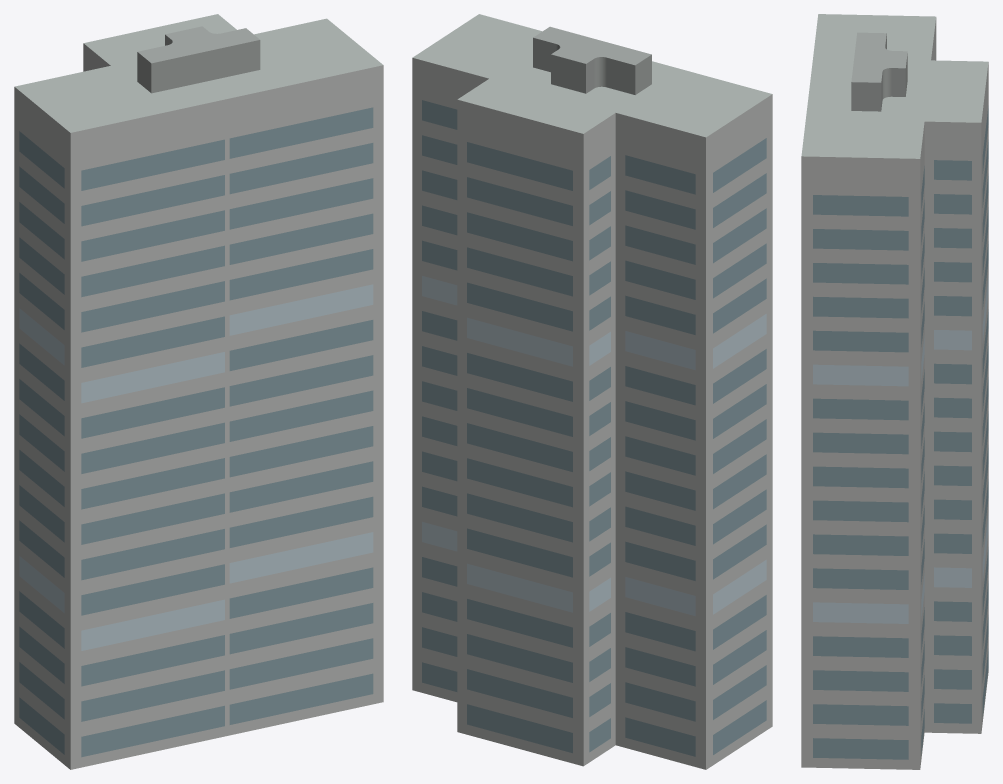
Rendered from fallback-geumho-park-hills-111.glb.
The picture shows the model from 3 angles, left to right: view 1: azimuth 30°, elevation 25°; view 2: azimuth 150°, elevation 25°; view 3: azimuth 270°, elevation 25°; orthographic projection. The views are drawn at different scales.
Parts seen in each view (by area): view 1: fallback-geumho-park-hills-111; view 2: fallback-geumho-park-hills-111; view 3: fallback-geumho-park-hills-111.
Part boxes in pixels (<box>): fallback-geumho-park-hills-111: <box>14,14,383,769</box>; fallback-geumho-park-hills-111: <box>412,14,772,769</box>; fallback-geumho-park-hills-111: <box>801,14,988,769</box>.
Bounding box in the file's own units: 24.78 × 51 × 13.52.
